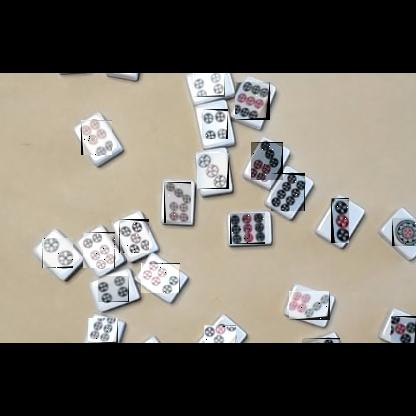1p: (392, 218, 416, 246)
2p: (42, 238, 73, 268)
3p: (197, 153, 229, 189), (331, 198, 349, 243)
4p: (98, 276, 129, 302), (202, 109, 228, 139), (193, 73, 225, 97)
5p: (119, 219, 149, 253), (391, 316, 416, 343), (204, 325, 236, 343)
6p: (141, 263, 180, 293), (83, 232, 115, 268), (81, 120, 112, 155)
7p: (251, 142, 283, 180), (289, 291, 330, 320), (164, 182, 191, 223)
8p: (271, 173, 305, 211), (88, 318, 118, 343)
9p: (235, 82, 270, 120), (230, 213, 265, 244), (301, 338, 340, 343)
